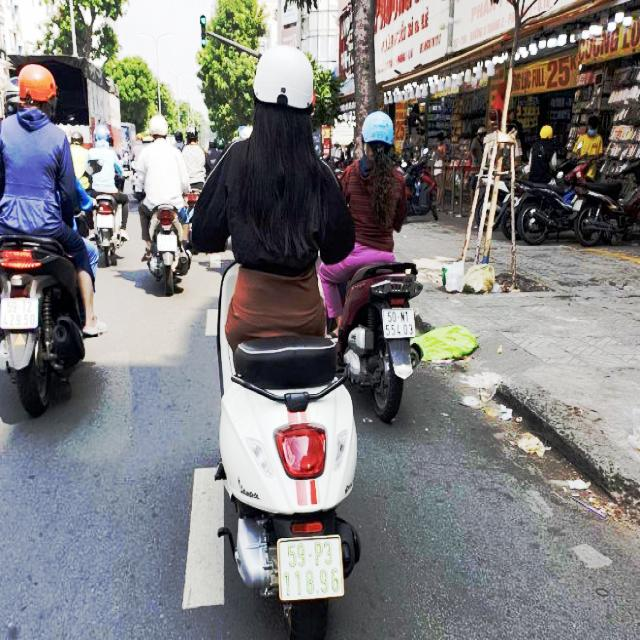license_plate: (279, 537, 344, 603), (2, 300, 39, 328), (383, 309, 416, 339)
